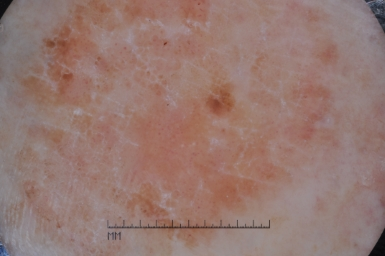seborrheic keratosis: (43, 2, 337, 215)
